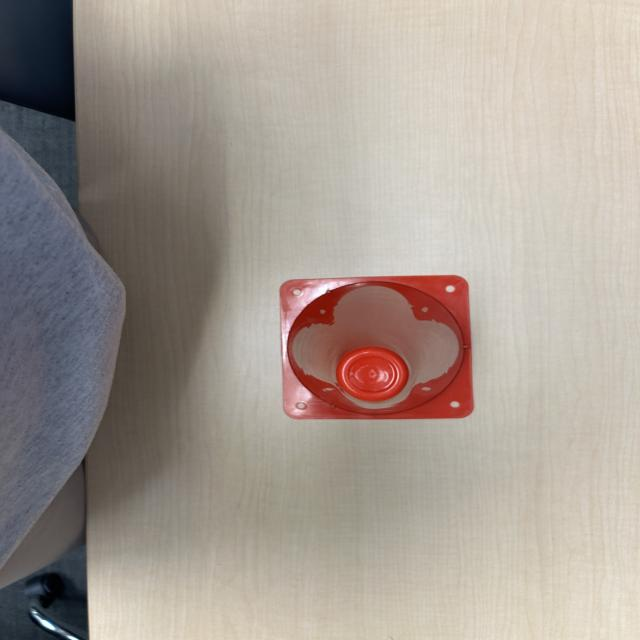orange cone: (269, 271, 495, 428)
